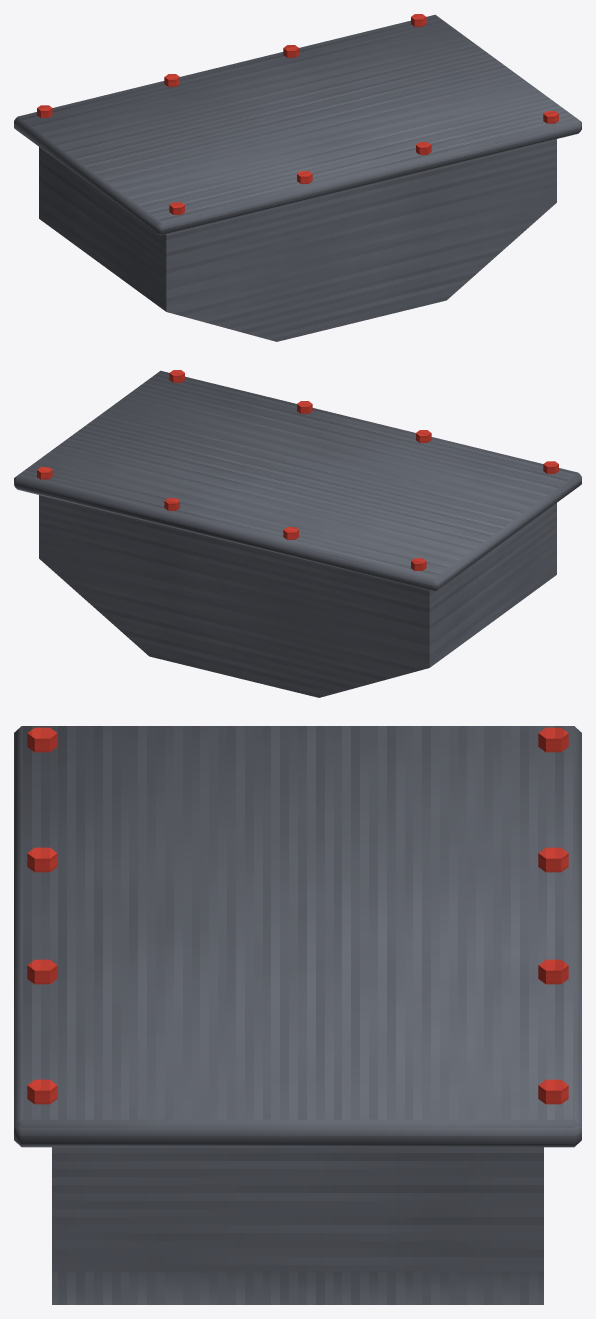
The model's file is carter_n4.glb.
3 renders of one model, top to bottom at view 1: azimuth 30°, elevation 25°; view 2: azimuth 150°, elevation 25°; view 3: azimuth 270°, elevation 25°, orthographic. The views are drawn at different scales.
Parts seen in each view (by area): view 1: carter_n4; view 2: carter_n4; view 3: carter_n4.
Boxes of the visible parts, x1,y1,x2,y2 form: carter_n4: [14, 14, 581, 341]; carter_n4: [14, 370, 581, 697]; carter_n4: [14, 726, 581, 1304].
Size of the model in its own units: 0.5 by 0.194 by 0.3.
Materials: 1 (1 with a texture image).
